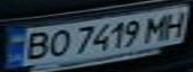1: (109, 19, 130, 49)
4: (90, 20, 115, 53)
7: (69, 24, 97, 55)
9: (121, 17, 148, 48)
B: (18, 29, 54, 61)
H: (157, 7, 193, 39)
M: (139, 11, 175, 43)
O: (42, 27, 72, 58)
